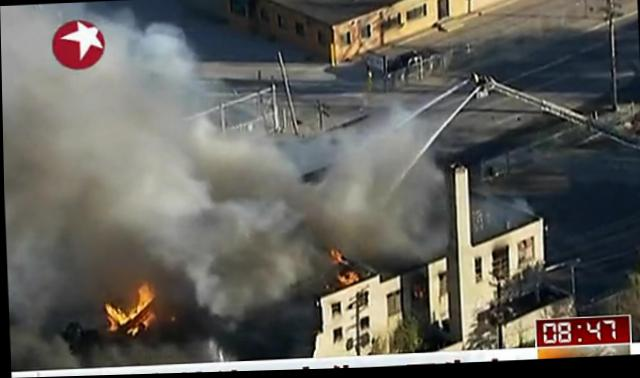fire: (103, 300, 126, 327), (132, 280, 152, 304), (336, 272, 357, 286), (124, 305, 143, 315)
